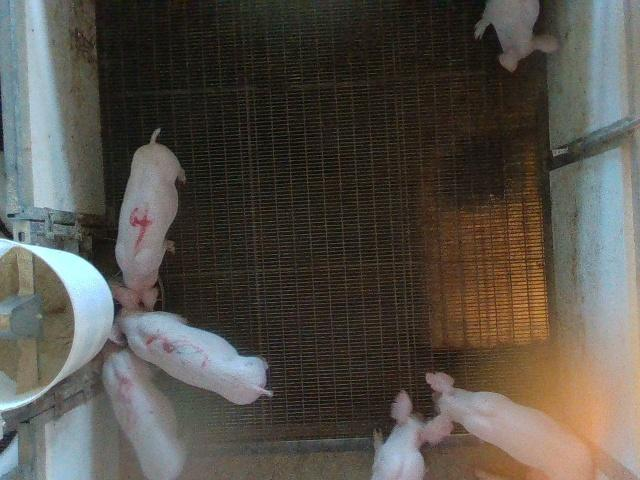pig-3: (110, 286, 271, 404)
pig-4: (115, 129, 185, 291)
pig-5: (104, 348, 185, 479)
